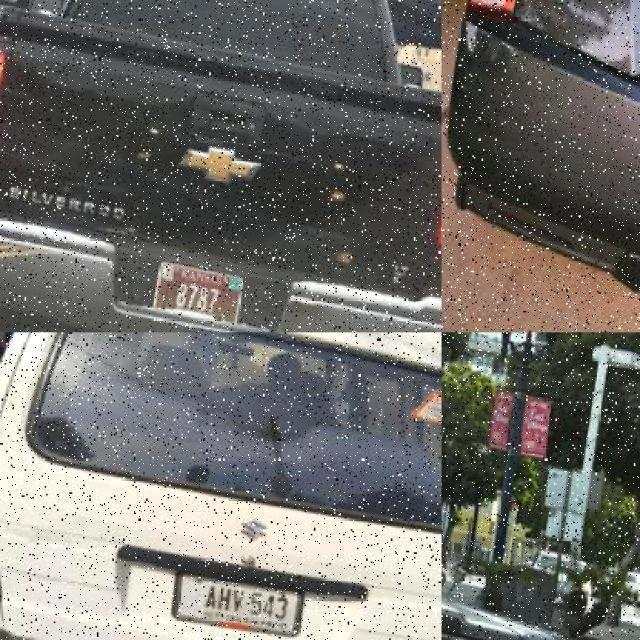license-plate: (137, 255, 292, 347), (174, 572, 321, 640)
